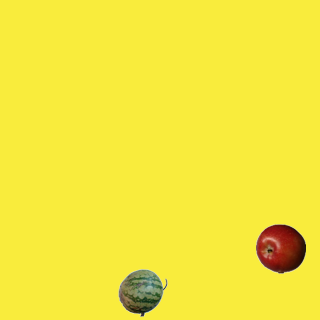Apple Braeburn: (255, 223, 305, 273)
Watermelon: (117, 267, 167, 317)
